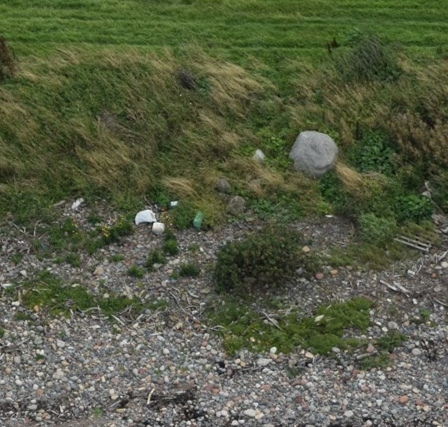cuboid: (390, 223, 436, 254)
scattered_barrel: (129, 192, 218, 241)
